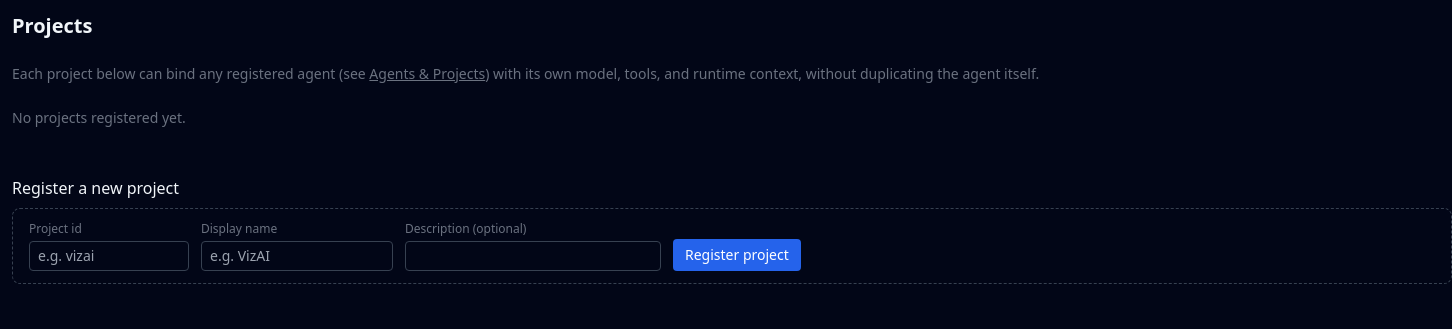
Test: Projects › registers a new project via the form and surfaces a validation error when fields are missing
The width and height of the screenshot is (1452, 329).
Check: the text "No projects registered yet." is shown, box [12,108,186,127]
What coordinates should you click on to do the following:
click the button "Register project"
I would click on:
 (737, 255)
Its box is [673,239,801,271].
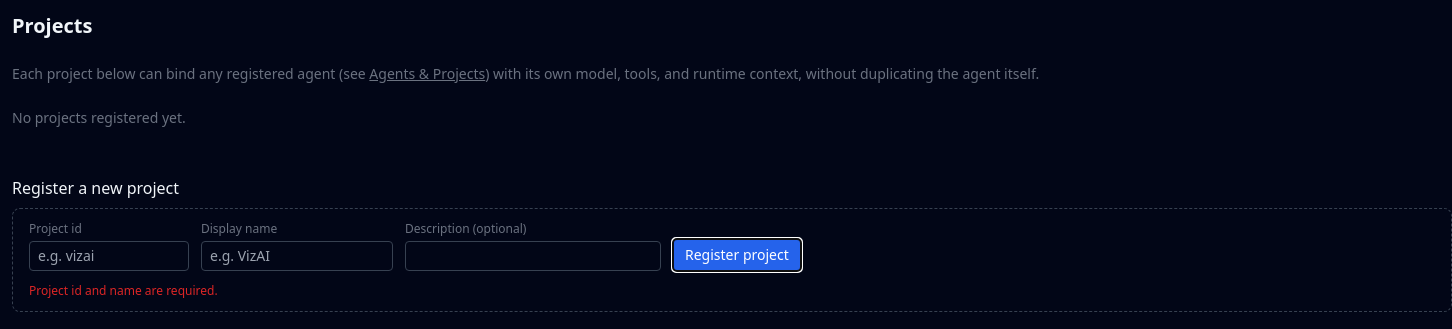
Check: the text "Project id and name are required." is shown, box [29,282,218,299]
